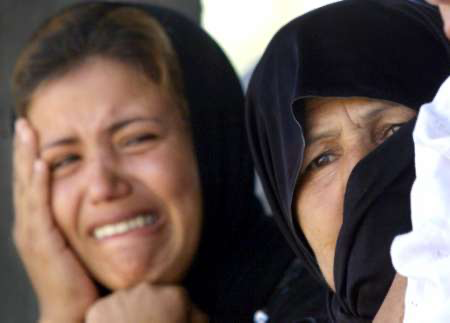Face: (31, 101, 208, 293), (275, 96, 431, 296)
